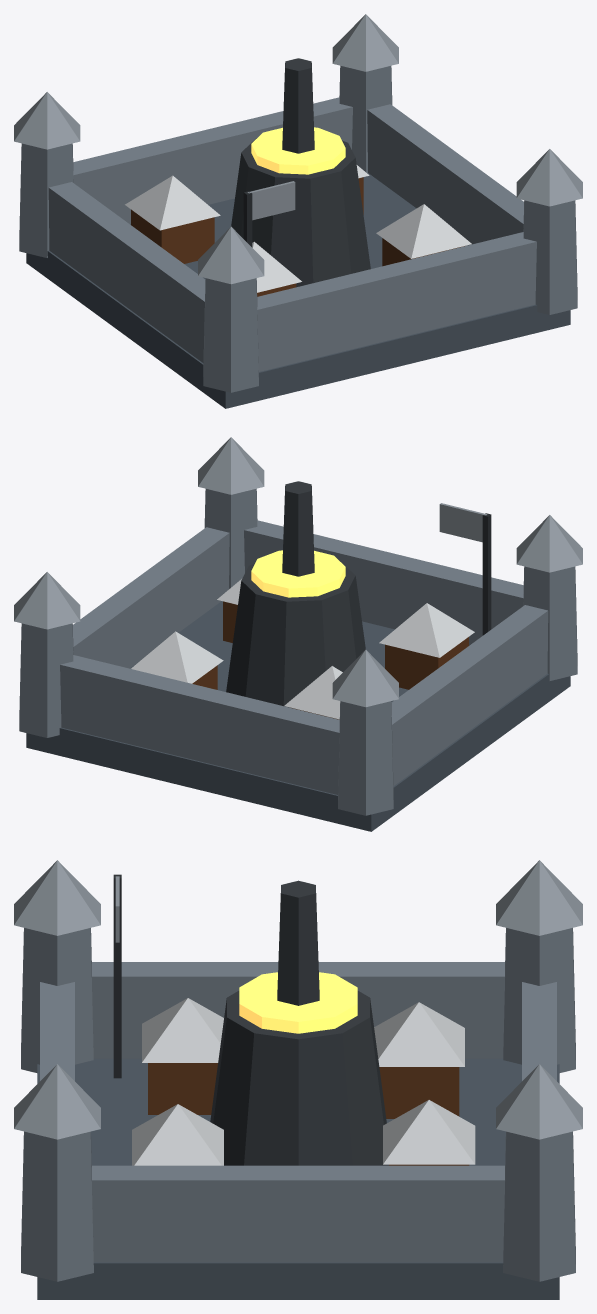
File: city_neutral.glb
3 views of the same model, one above another, from view 1: azimuth 30°, elevation 25°; view 2: azimuth 150°, elevation 25°; view 3: azimuth 270°, elevation 25° (orthographic). The views are drawn at different scales.
Parts seen in each view (by area): view 1: city_neutral; view 2: city_neutral; view 3: city_neutral.
Part boxes in pixels (bbox=[...]): city_neutral: bbox=[14, 14, 582, 408]; city_neutral: bbox=[14, 437, 582, 831]; city_neutral: bbox=[14, 860, 582, 1299].
Size of the model in its own units: 2.2 by 1.25 by 2.15.
